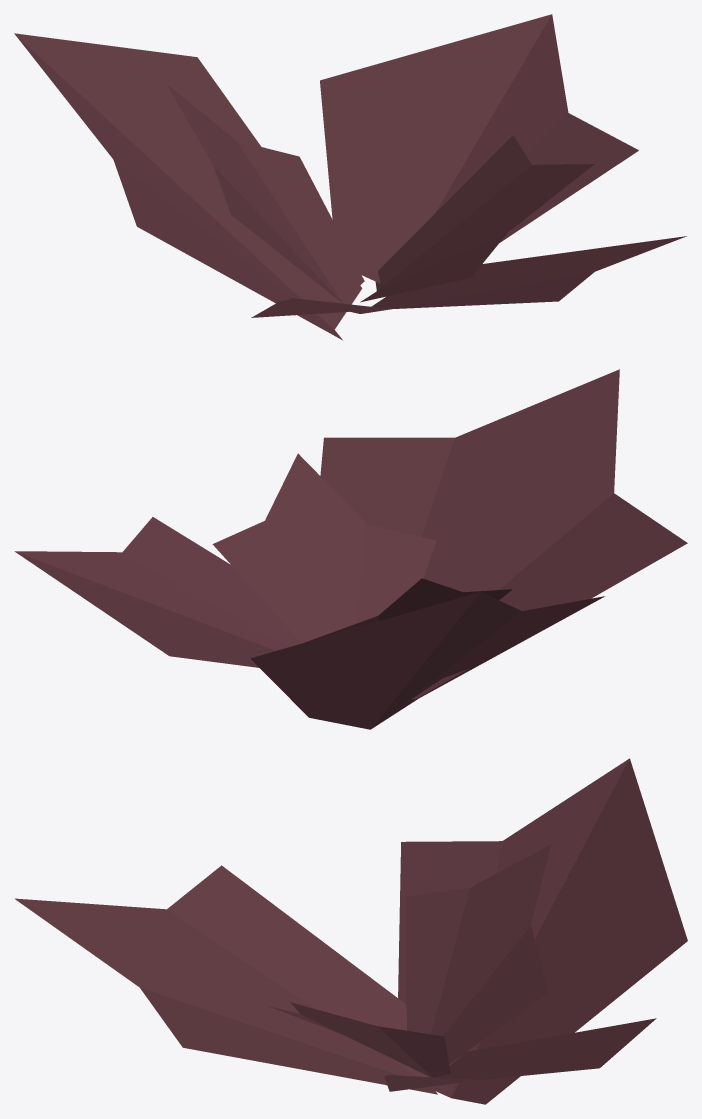
Rendered from scifi-scifi-plant-leaf-small.glb.
3 renders of one model, top to bottom at view 1: azimuth 30°, elevation 25°; view 2: azimuth 150°, elevation 25°; view 3: azimuth 270°, elevation 25°, orthographic. The views are drawn at different scales.
Parts seen in each view (by area): view 1: scifi-plant-leaf-small; view 2: scifi-plant-leaf-small; view 3: scifi-plant-leaf-small.
Part boxes in pixels (<box>): scifi-plant-leaf-small: <box>14,14,686,340</box>; scifi-plant-leaf-small: <box>14,369,687,729</box>; scifi-plant-leaf-small: <box>14,758,687,1104</box>.
Bounding box in the file's own units: 0.517 × 0.2589 × 0.6458.
